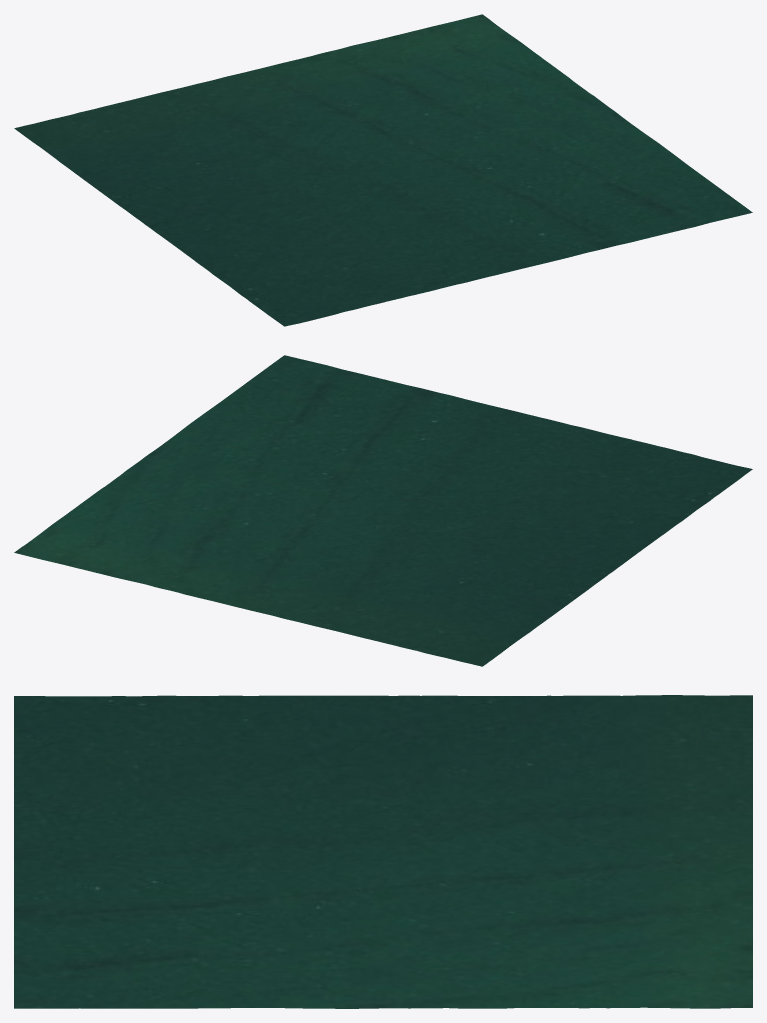
3 renders of one model, top to bottom at view 1: azimuth 30°, elevation 25°; view 2: azimuth 150°, elevation 25°; view 3: azimuth 270°, elevation 25°, orthographic. The views are drawn at different scales.
Size of the model in its own units: 209 by 0.5496 by 209.
2 materials, 2 textured.
